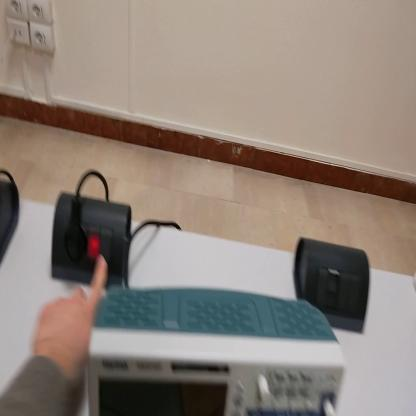hand: (33, 252, 109, 382)
oscilloscope: (86, 287, 347, 416)
socket: (52, 191, 135, 296), (2, 178, 21, 268)
